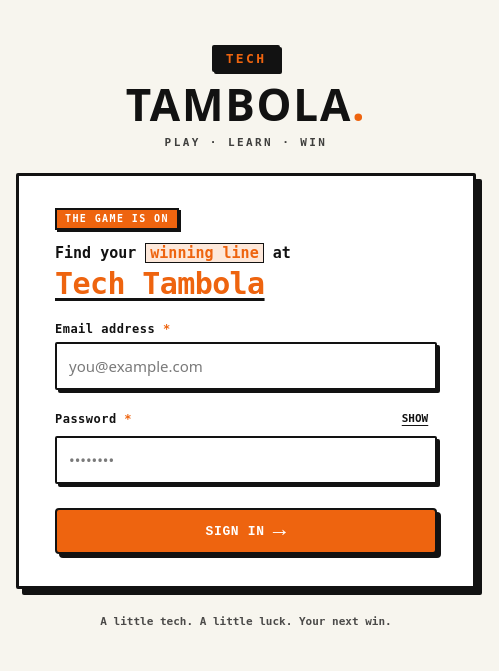
Test: LoginPage › validates empty and malformed input accessibly
This screenshot has width=499, height=671.
Click the button "Sign in →" at (246, 531), box [55, 508, 437, 554]
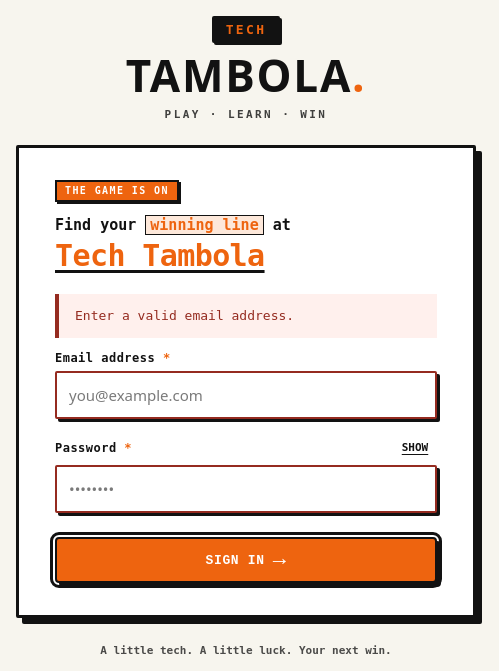
Expected: the message shows "valid email", [75, 308, 294, 322]
